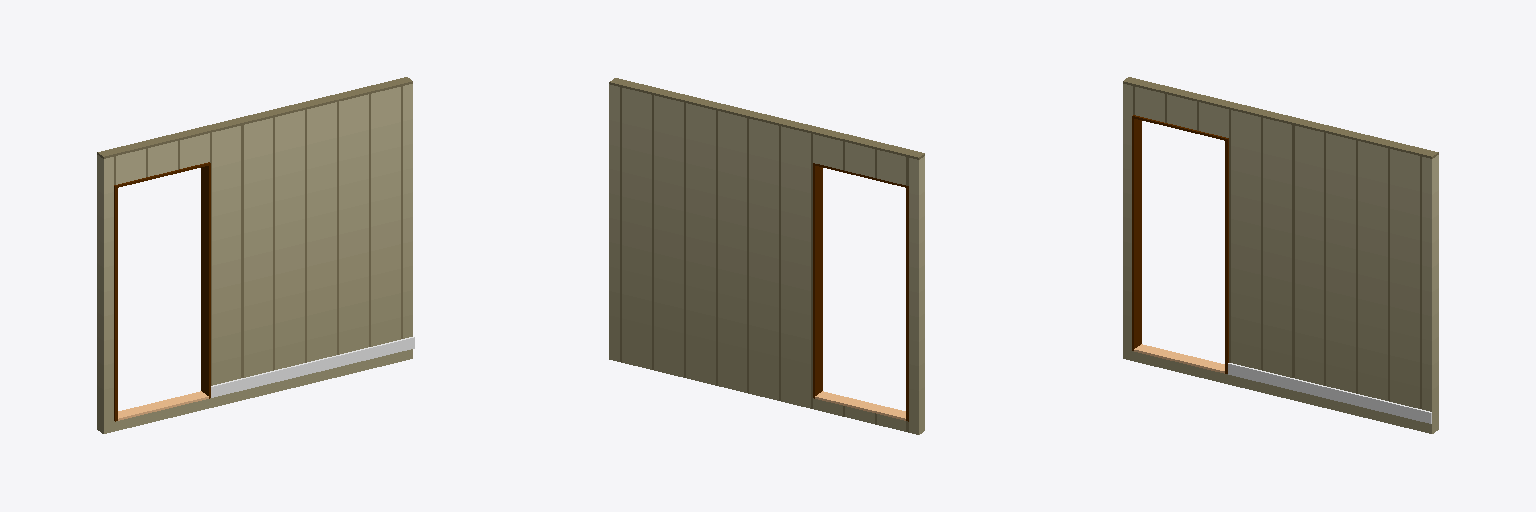
3 views of the same model, side by side, from view 1: azimuth 30°, elevation 25°; view 2: azimuth 150°, elevation 25°; view 3: azimuth 330°, elevation 25° (orthographic).
Parts seen in each view (by area): view 1: object 1; view 2: object 1; view 3: object 1.
Part boxes in pixels (x1,y1,x2,y2): object 1: (97,77,414,433); object 1: (609,78,924,434); object 1: (1123,77,1438,433).
Bounding box in the file's own units: 14.6 × 12.5 × 0.6.
1 materials, 1 textured.